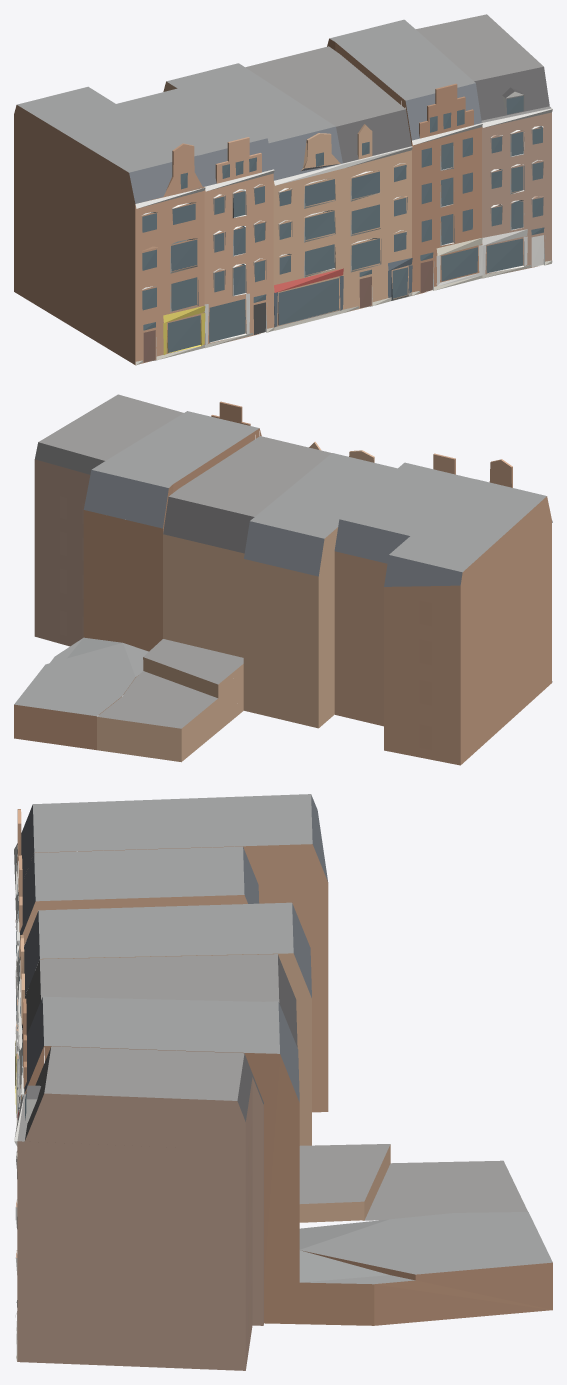
The model's file is chunk-face-bilder-164451-156126.lod2.glb.
3 renders of one model, top to bottom at view 1: azimuth 30°, elevation 25°; view 2: azimuth 150°, elevation 25°; view 3: azimuth 270°, elevation 25°, orthographic. The views are drawn at different scales.
Parts seen in each view (by area): view 1: lod2; view 2: lod2; view 3: lod2.
Boxes of the visible parts, <box> form: lod2: <box>14,14,552,365</box>; lod2: <box>14,394,552,765</box>; lod2: <box>14,794,552,1370</box>.
Bounding box in the file's own units: 39.72 × 17.83 × 29.3.
